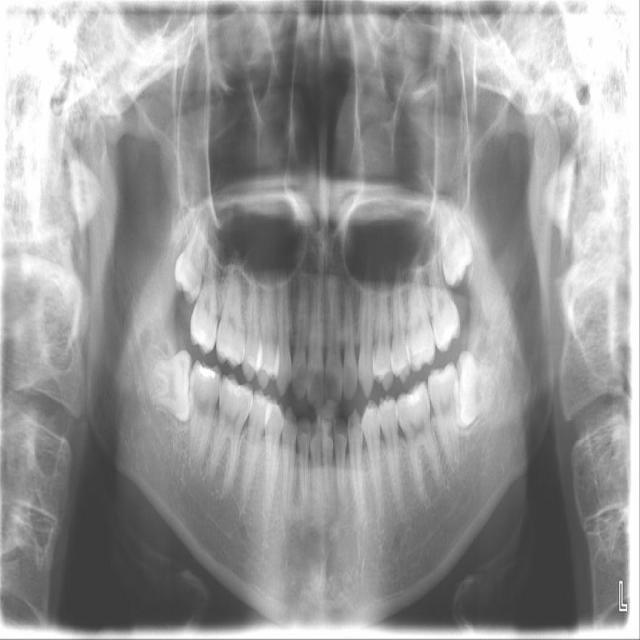3M ESPE Implant: (169, 202, 216, 306)
52: (184, 359, 227, 408)
73: (603, 581, 610, 591)
BioHorizons Implant: (419, 237, 465, 354)
BioLife Implant: (433, 195, 477, 288)
Biomet 3i Implant: (452, 350, 499, 430)
Blue Sky Bio Implant: (426, 361, 466, 476)
Caries: (190, 239, 218, 354)
Implant: (187, 359, 223, 471)
Keystone Dental Implant: (150, 349, 196, 423)
